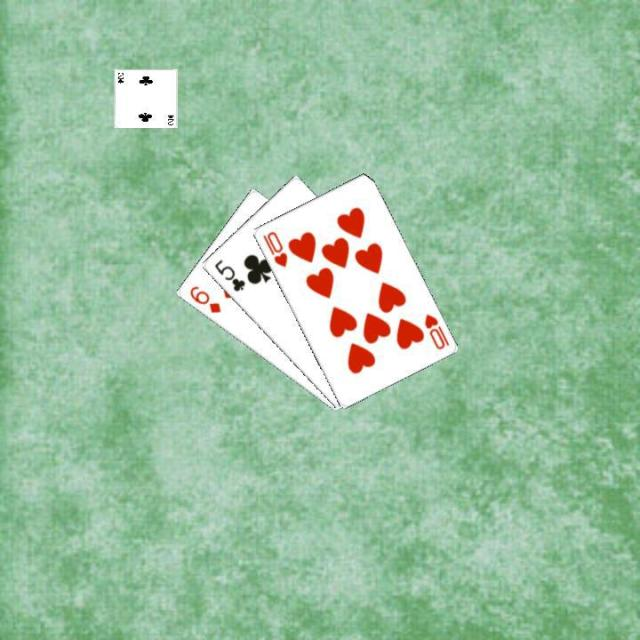10H: (420, 310, 450, 351), (259, 228, 289, 268)
5C: (210, 255, 247, 293)
6D: (185, 282, 222, 314)
